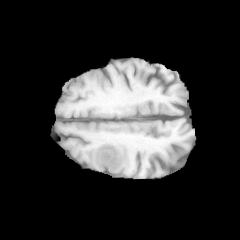glioma: (92, 143, 126, 173)
